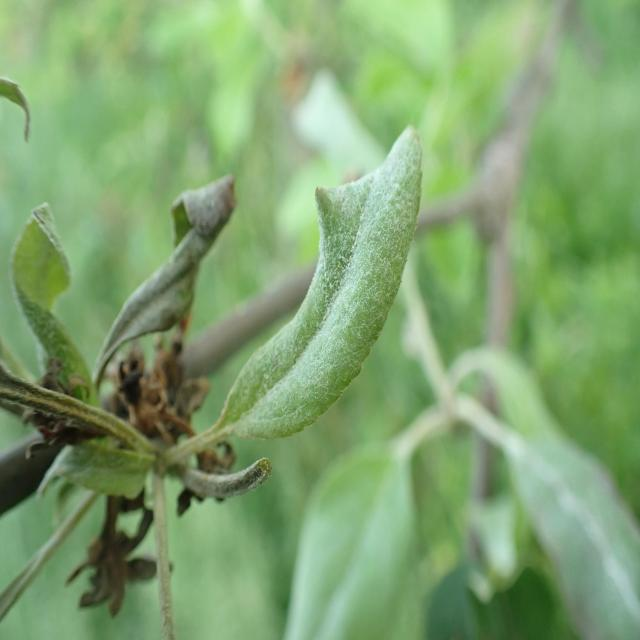Powdery_mildew: (218, 104, 430, 470), (93, 151, 238, 421), (3, 187, 107, 406), (37, 430, 169, 518)
